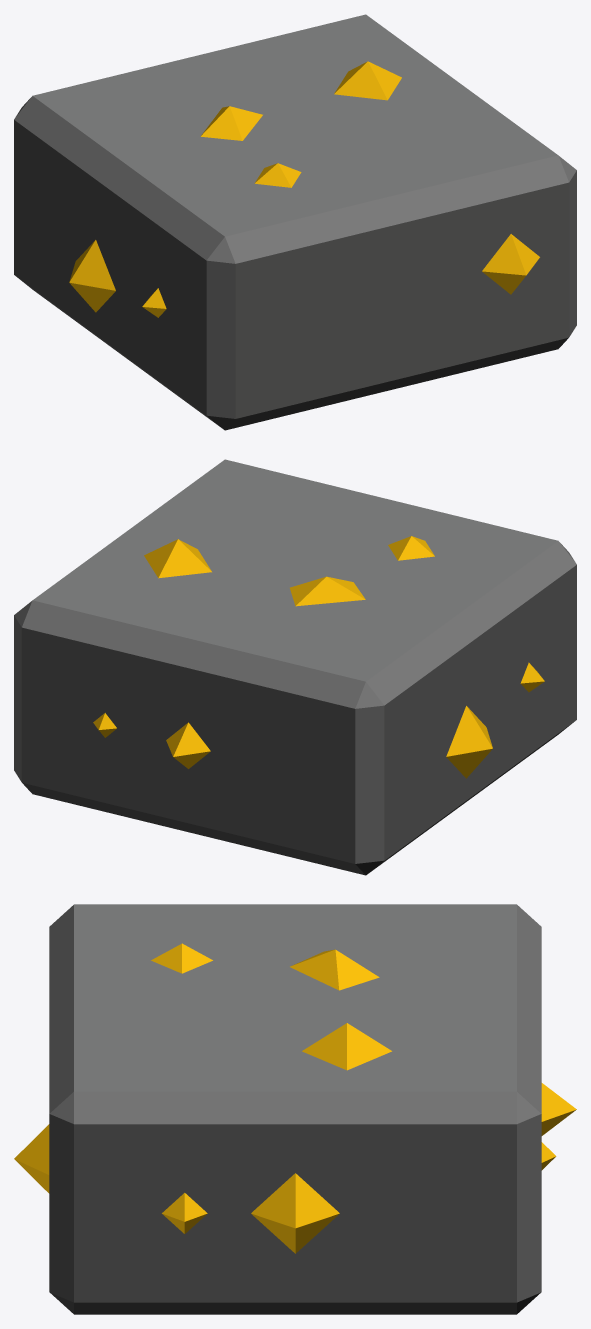
File: m_kub_ore_cubeSmall.FBX
The picture shows the model from 3 angles, top to bottom: view 1: azimuth 30°, elevation 25°; view 2: azimuth 150°, elevation 25°; view 3: azimuth 270°, elevation 25°; orthographic projection. The views are drawn at different scales.
Visible parts, largest first — view 1: m_kub_ore_cubeSmall; view 2: m_kub_ore_cubeSmall; view 3: m_kub_ore_cubeSmall.
Boxes of the visible parts, x1,y1,x2,y2 form: m_kub_ore_cubeSmall: (14, 14, 576, 430); m_kub_ore_cubeSmall: (14, 459, 576, 875); m_kub_ore_cubeSmall: (14, 904, 576, 1314).
Size of the model in its own units: 2.29 by 1.13 by 2.29.
